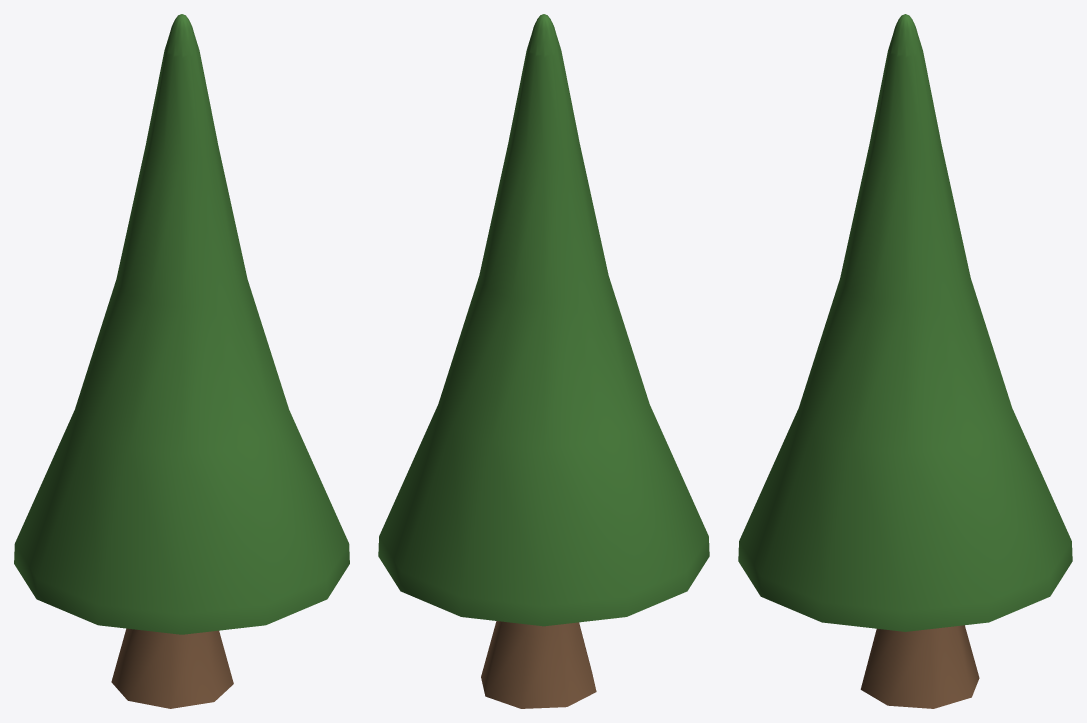
The model's file is SM_tree_conifer_01.fbx.
The picture shows the model from 3 angles, left to right: view 1: azimuth 30°, elevation 25°; view 2: azimuth 150°, elevation 25°; view 3: azimuth 270°, elevation 25°; orthographic projection.
Parts seen in each view (by area): view 1: Cylinder51230; view 2: Cylinder51230; view 3: Cylinder51230.
Boxes of the visible parts, x1,y1,x2,y2 form: Cylinder51230: (14,14,349,708); Cylinder51230: (378,14,709,708); Cylinder51230: (738,14,1072,708).
Size of the model in its own units: 63.92 by 141 by 63.92.
